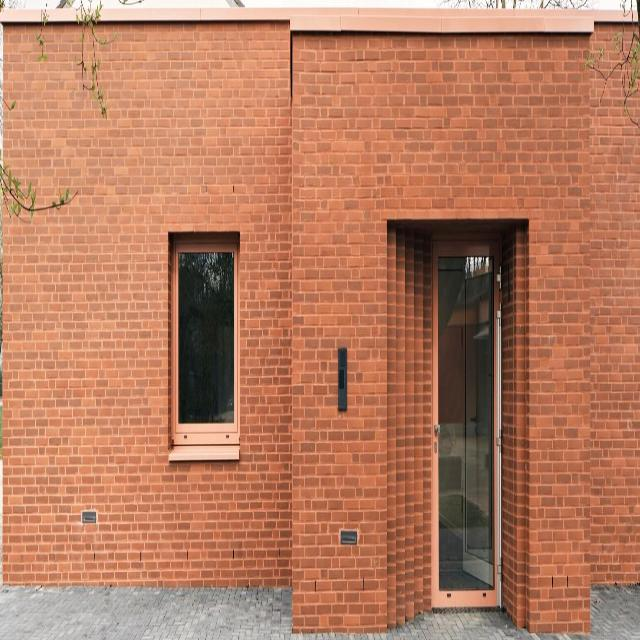door: (429, 232, 503, 620)
window: (170, 235, 240, 444)
